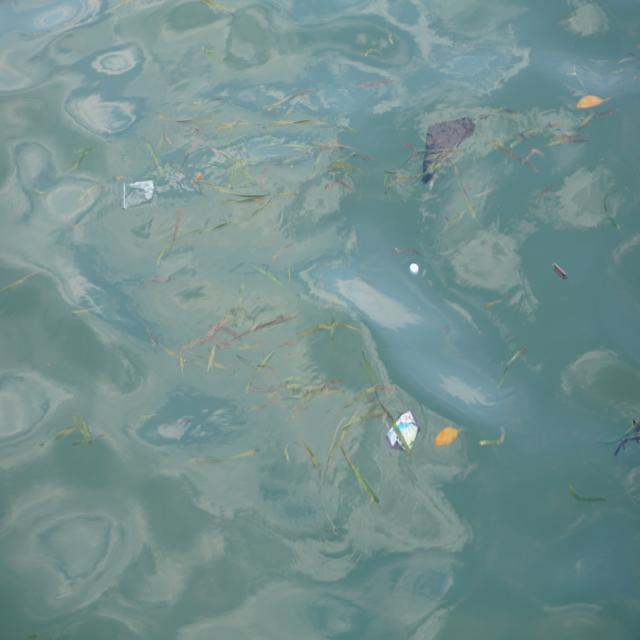Botol Plastik: (409, 259, 421, 278)
Bungkus Makanan: (387, 410, 422, 457)
Kantong Plastik: (422, 116, 477, 188), (123, 179, 156, 213)
